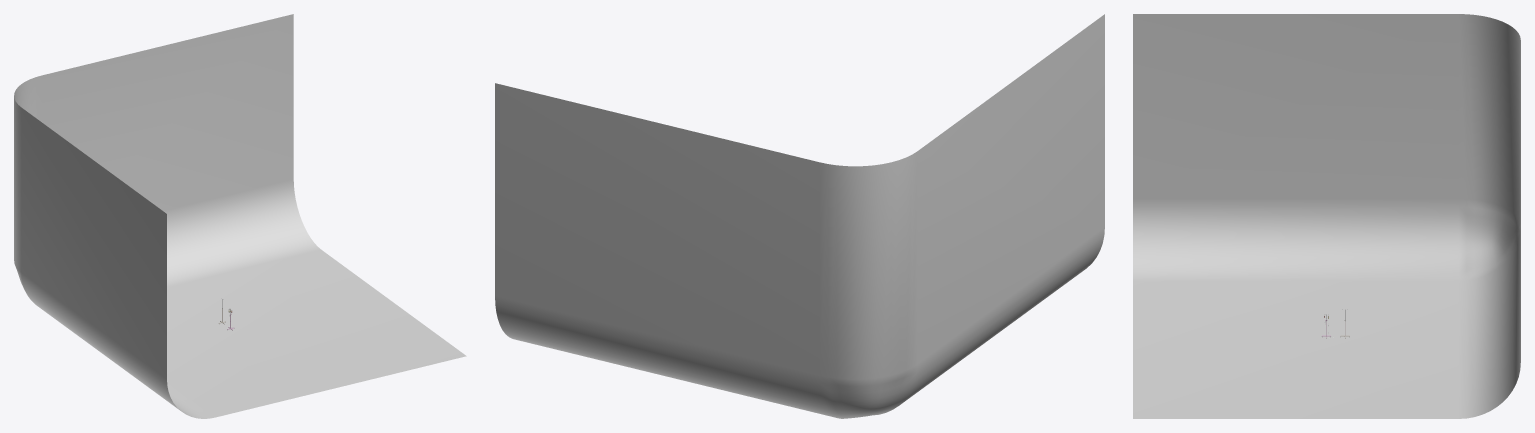
3 renders of one model, left to right at view 1: azimuth 30°, elevation 25°; view 2: azimuth 150°, elevation 25°; view 3: azimuth 270°, elevation 25°, orthographic. The views are drawn at different scales.
Visible parts, largest first — view 1: Floor; view 2: Floor; view 3: Floor.
Part boxes in pixels (x1=…): Floor: x1=14, y1=14, x2=466, y2=418; Floor: x1=495, y1=14, x2=1104, y2=418; Floor: x1=1133, y1=14, x2=1520, y2=418.
Bounding box in the file's own units: 2813 × 1930 × 2813.
